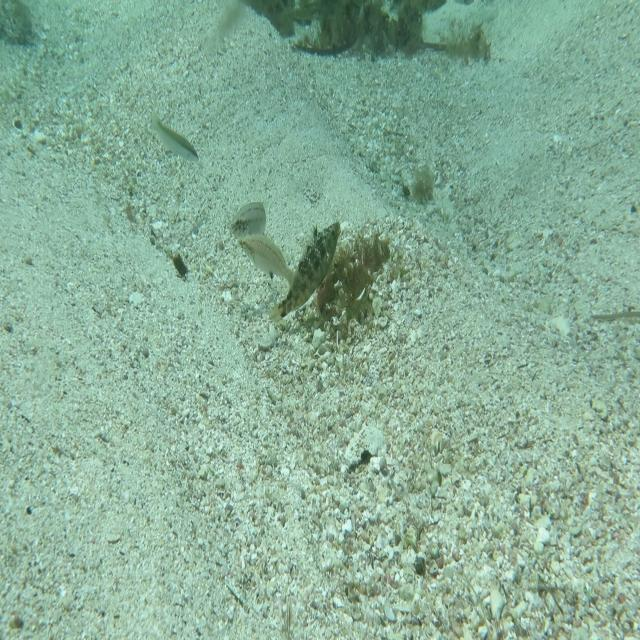Coris_julis_female: (149, 108, 202, 171)
ROLL: (266, 212, 345, 330)
female: (227, 195, 270, 250)
nest: (306, 224, 402, 340)
other_fish: (238, 231, 303, 298)
